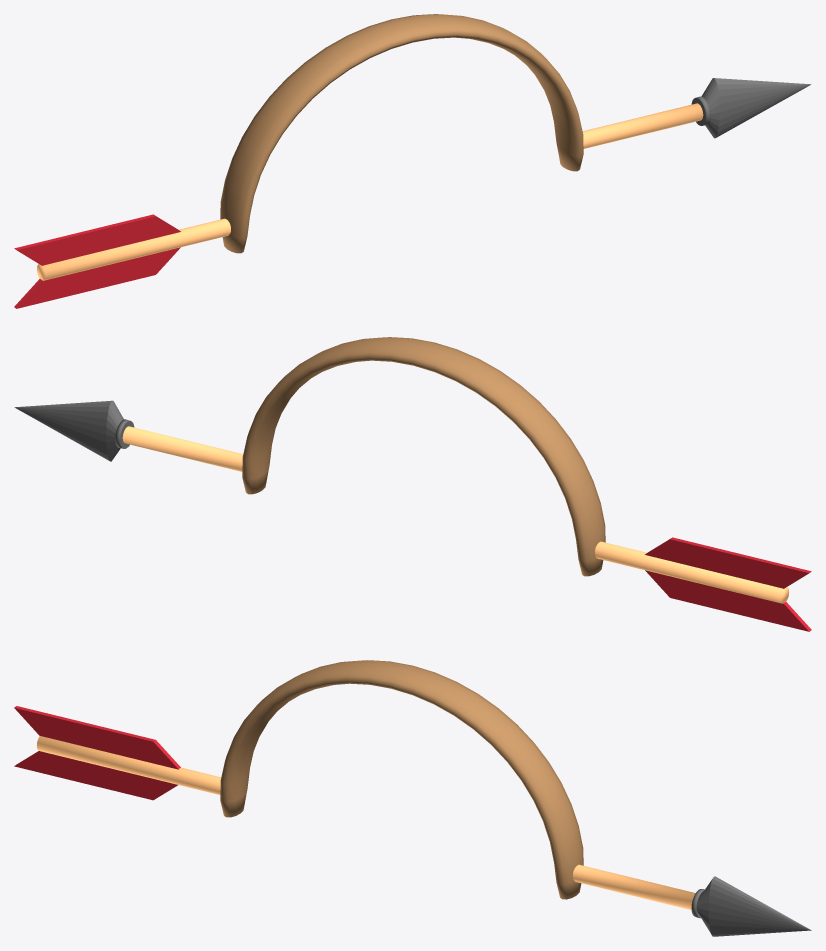
The model's file is arrow-hat.glb.
3 renders of one model, top to bottom at view 1: azimuth 30°, elevation 25°; view 2: azimuth 150°, elevation 25°; view 3: azimuth 330°, elevation 25°, orthographic.
Parts seen in each view (by area): view 1: Arrowband; view 2: Arrowband; view 3: Arrowband.
Boxes of the visible parts, x1,y1,x2,y2 form: Arrowband: [14, 14, 811, 308]; Arrowband: [14, 337, 811, 631]; Arrowband: [14, 660, 811, 936].
Bounding box in the file's own units: 711 × 163 × 37.5.
